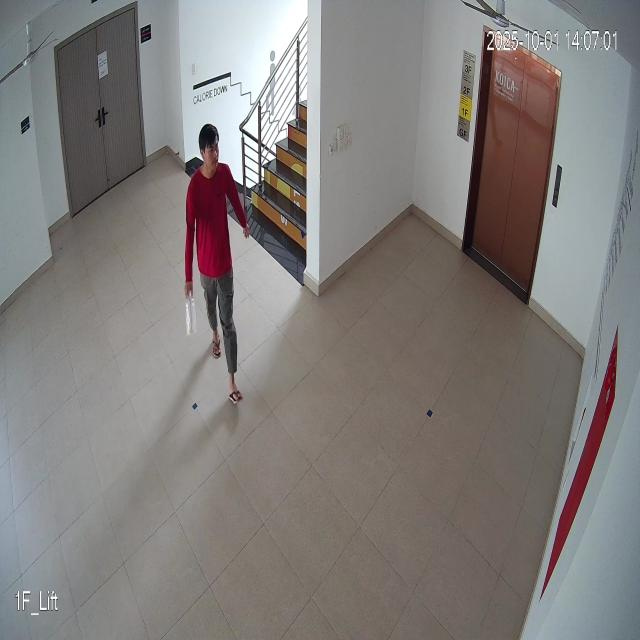face: (197, 122, 223, 176)
